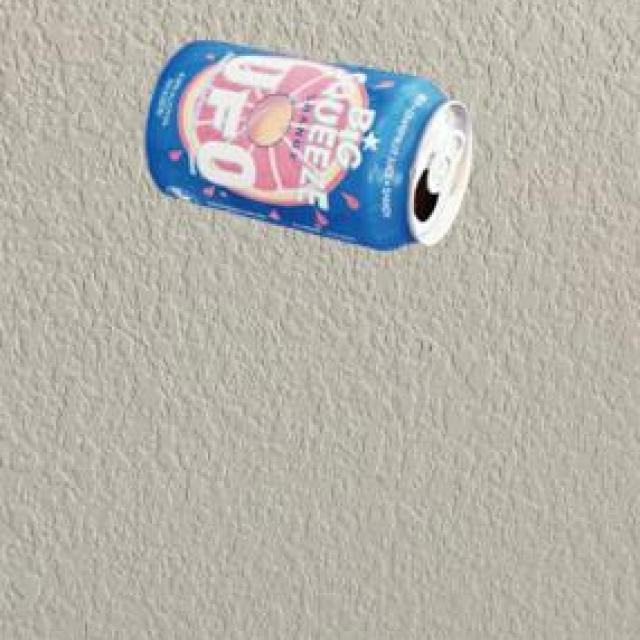logam: (142, 39, 469, 247)
